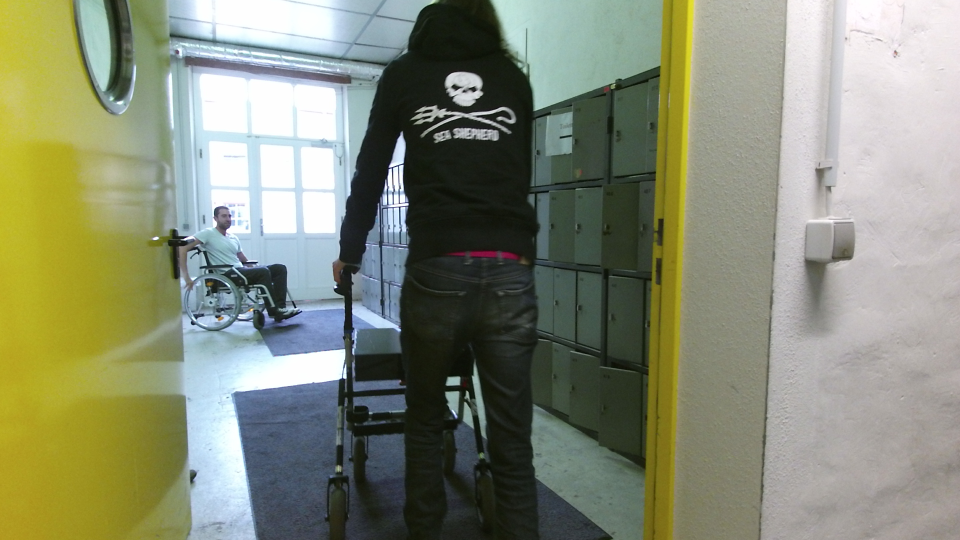wheelchair: (178, 199, 305, 337)
